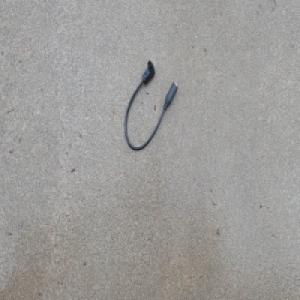Wire: (123, 58, 178, 151)
